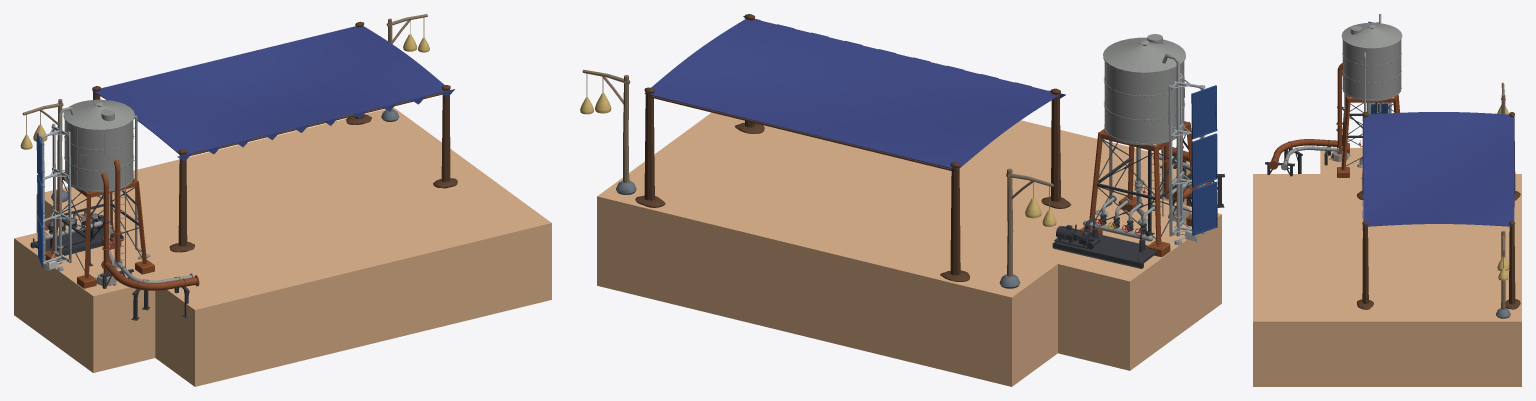
File: nomad_farm_plot.fbx
3 views of the same model, side by side, from view 1: azimuth 30°, elevation 25°; view 2: azimuth 150°, elevation 25°; view 3: azimuth 270°, elevation 25° (orthographic). The views are drawn at different scales.
Parts seen in each view (by area): view 1: NomadFarmPlot; view 2: NomadFarmPlot; view 3: NomadFarmPlot.
Boxes of the visible parts, left/top/right/bottom form: NomadFarmPlot: left=14, top=14, right=551, bottom=386; NomadFarmPlot: left=580, top=14, right=1224, bottom=386; NomadFarmPlot: left=1253, top=14, right=1521, bottom=386.
Bounding box in the file's own units: 2798 × 1367 × 1640.
